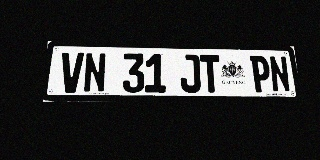1: (145, 54, 166, 93)
3: (123, 53, 144, 93)
J: (180, 54, 201, 93)
N: (83, 53, 106, 93), (269, 56, 291, 92)
P: (250, 55, 272, 92)
T: (200, 55, 222, 93)
V: (59, 52, 84, 93)
